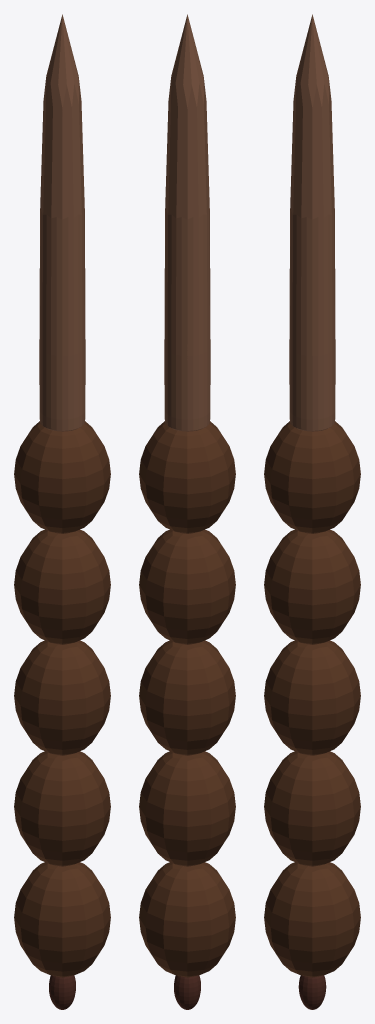
File: Wand 206.glb
3 renders of one model, left to right at view 1: azimuth 30°, elevation 25°; view 2: azimuth 210°, elevation 25°; view 3: azimuth 270°, elevation 25°, orthographic.
Visible parts, largest first — view 1: GeneratedWand; view 2: GeneratedWand; view 3: GeneratedWand.
Boxes of the visible parts, bbox=[...] form: GeneratedWand: bbox=[14, 14, 110, 1009]; GeneratedWand: bbox=[139, 14, 235, 1009]; GeneratedWand: bbox=[264, 14, 360, 1009].
Bounding box in the file's own units: 0.0447 × 0.5091 × 0.0449.
